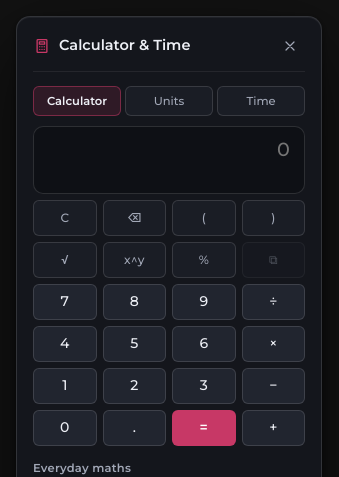
Calc & Time: calculator behaviour › shows an error message instead of a wrong number
Click the button with class "ct-key" showing "1" at point(65, 386), box [33,368,96,404]
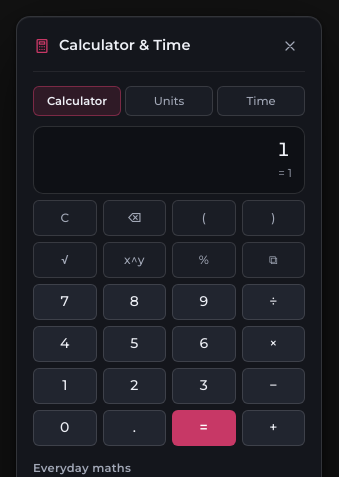
Click the button with class "ct-key" showing "÷" at point(273, 302), box [242,284,305,320]
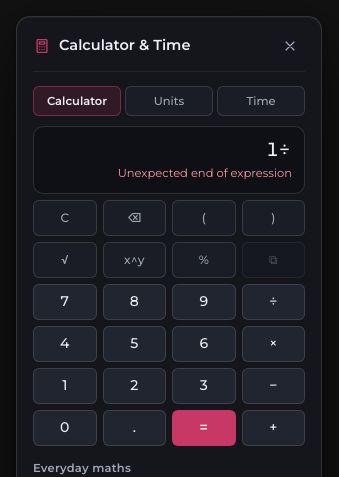
Click the button with class "ct-key" showing "0" at point(65, 428), box [33,410,96,446]
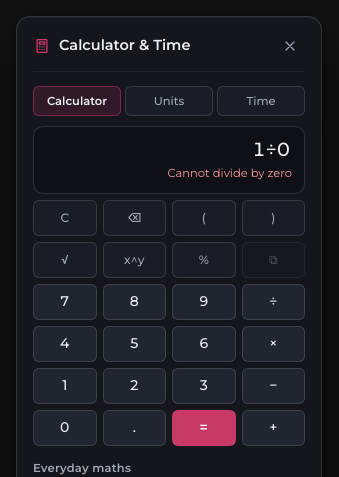
Result: the text with class "ct-preview" shows "divide by zero" at [168,166,292,180]
